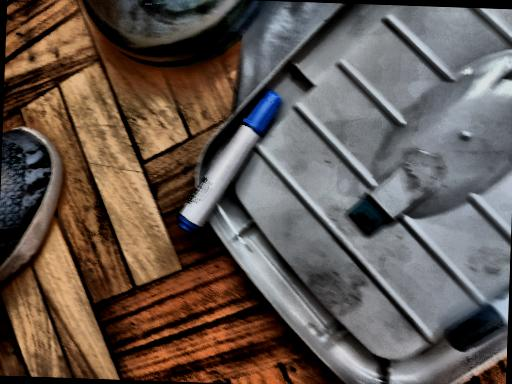marcador azul: (177, 90, 282, 233)
